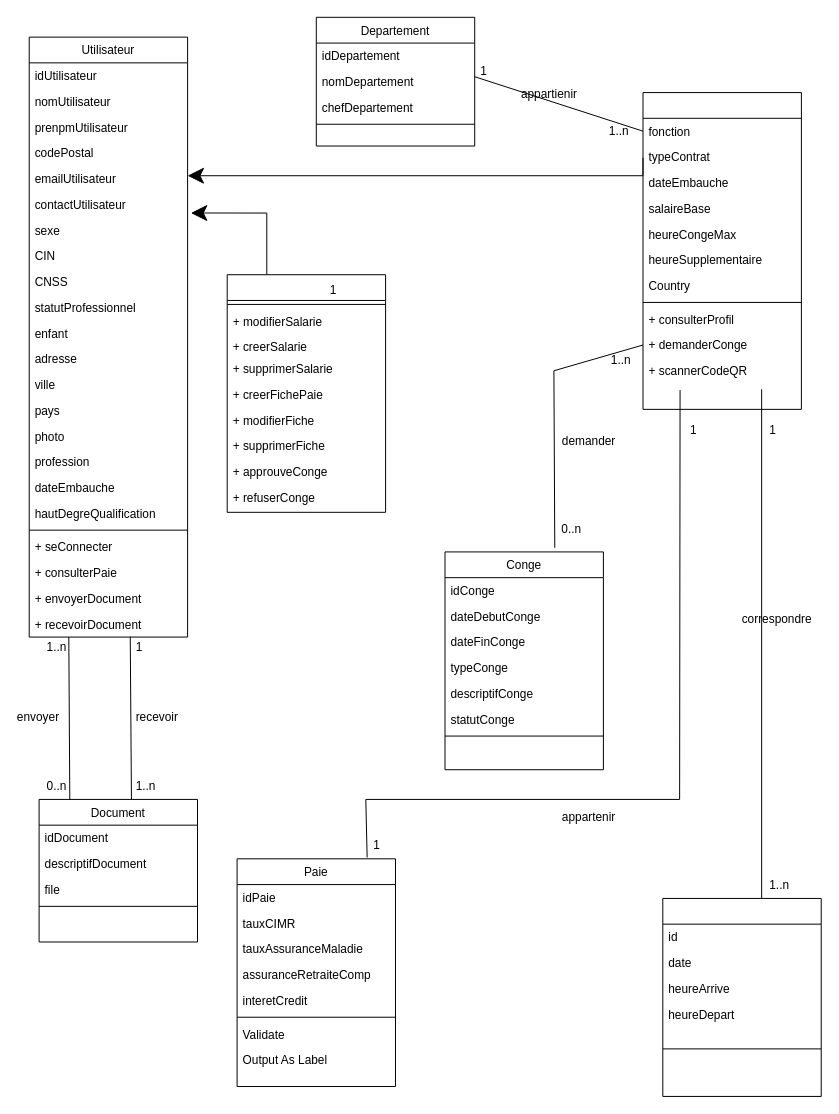
Some shapes in this 839 by 1114 pixel diagram are drawn without their labels. Each missing label, with the box of its shape:
Administrateur: (226, 274, 386, 512)
EnregistrementTemps: (662, 897, 821, 1096)
Salarié: (642, 92, 801, 409)
